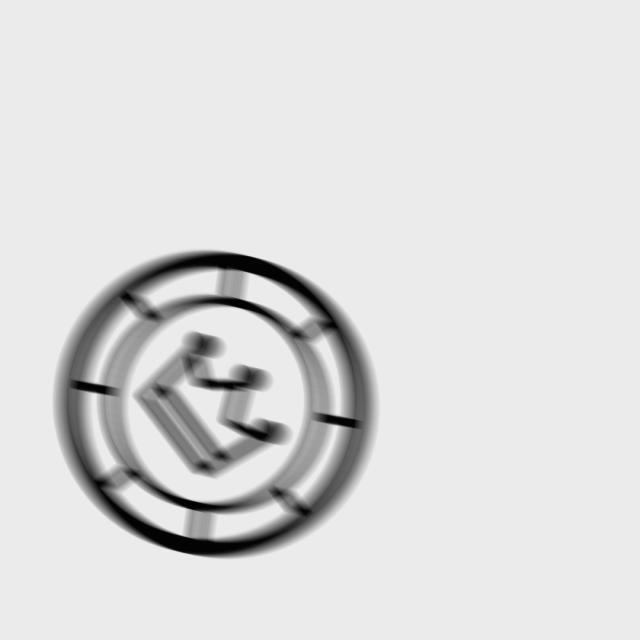coin: (49, 246, 385, 567)
